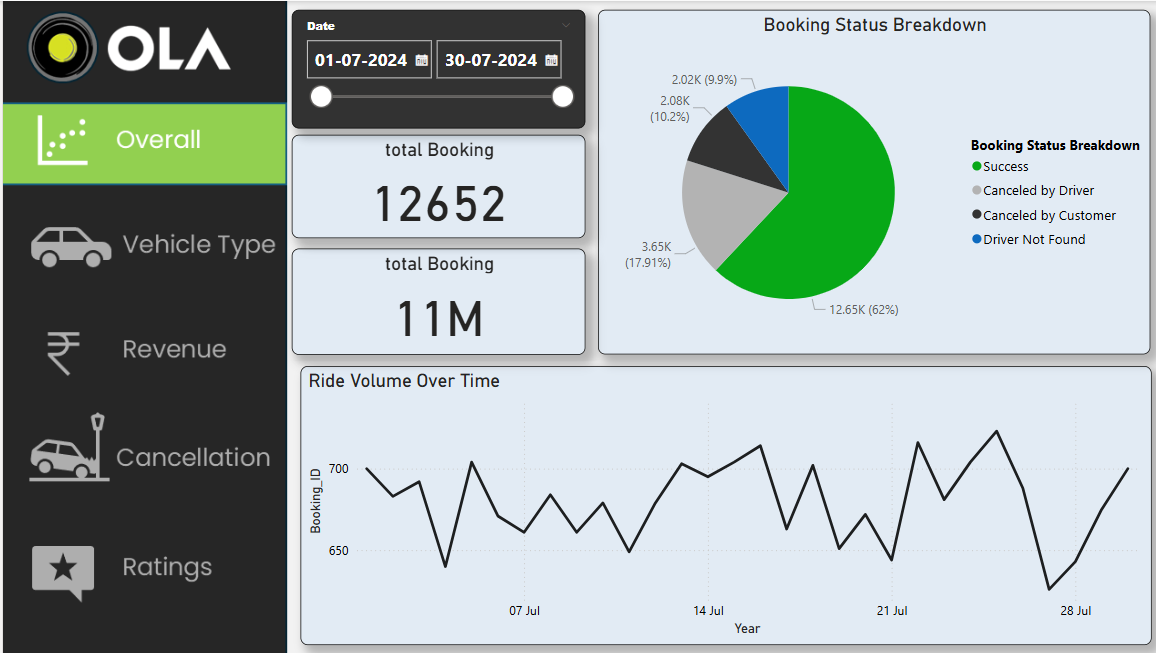

What the dashboard file says about the page in this screenshot:
{"tool":"powerbi","page":{"name":"Overall","canvas":[1280,720],"ordinal":0},"visuals":[{"type":"actionButton","box":[0,204.3,310.4,98.3],"z":0},{"type":"actionButton","box":[0,330.5,310.4,98.3],"z":1000},{"type":"actionButton","box":[0,444.4,310.4,98.3],"z":2000},{"type":"actionButton","box":[0,580.6,310.4,98.3],"z":3000},{"type":"lineChart","title":"Ride Volume Over Time","fields":{"Y":["CountNonNull(July.Booking_ID)"],"Category":["July.Date.Variation.Date Hierarchy.Year","July.Date.Variation.Date Hierarchy.Quarter","July.Date.Variation.Date Hierarchy.Month","July.Date.Variation.Date Hierarchy.Day"]},"box":[326.6,400.7,934.5,306],"z":4000},{"type":"pieChart","title":"Booking Status Breakdown","fields":{"Category":["July.Booking_Status"],"Y":["CountNonNull(July.Booking_Status)"]},"box":[653.2,9.6,606.5,378.7],"z":5000},{"type":"slicer","fields":{"Values":["July.Date"]},"box":[317,9.6,322.5,130.4],"z":6000},{"type":"card","title":"total Booking","fields":{"Values":["CountNonNull(July.Booking_ID)"]},"box":[317,146.8,322.5,113.9],"z":7000},{"type":"card","title":"total Booking","fields":{"Values":["Sum(July.Booking_Value)"]},"box":[317,271.7,322.5,116.6],"z":8000}]}

Visuals, with their boxes in screenshot pixels (x1, y1, x2, y2), scaled from the page's 1280x720 canvas onto the 1156x653 screenshot:
actionButton: region(0, 185, 280, 274)
actionButton: region(0, 300, 280, 389)
actionButton: region(0, 403, 280, 492)
actionButton: region(0, 527, 280, 616)
"Ride Volume Over Time" lineChart: region(295, 363, 1139, 641)
"Booking Status Breakdown" pieChart: region(590, 9, 1138, 352)
slicer - July.Date: region(286, 9, 578, 127)
"total Booking" card: region(286, 133, 578, 236)
"total Booking" card: region(286, 246, 578, 352)
